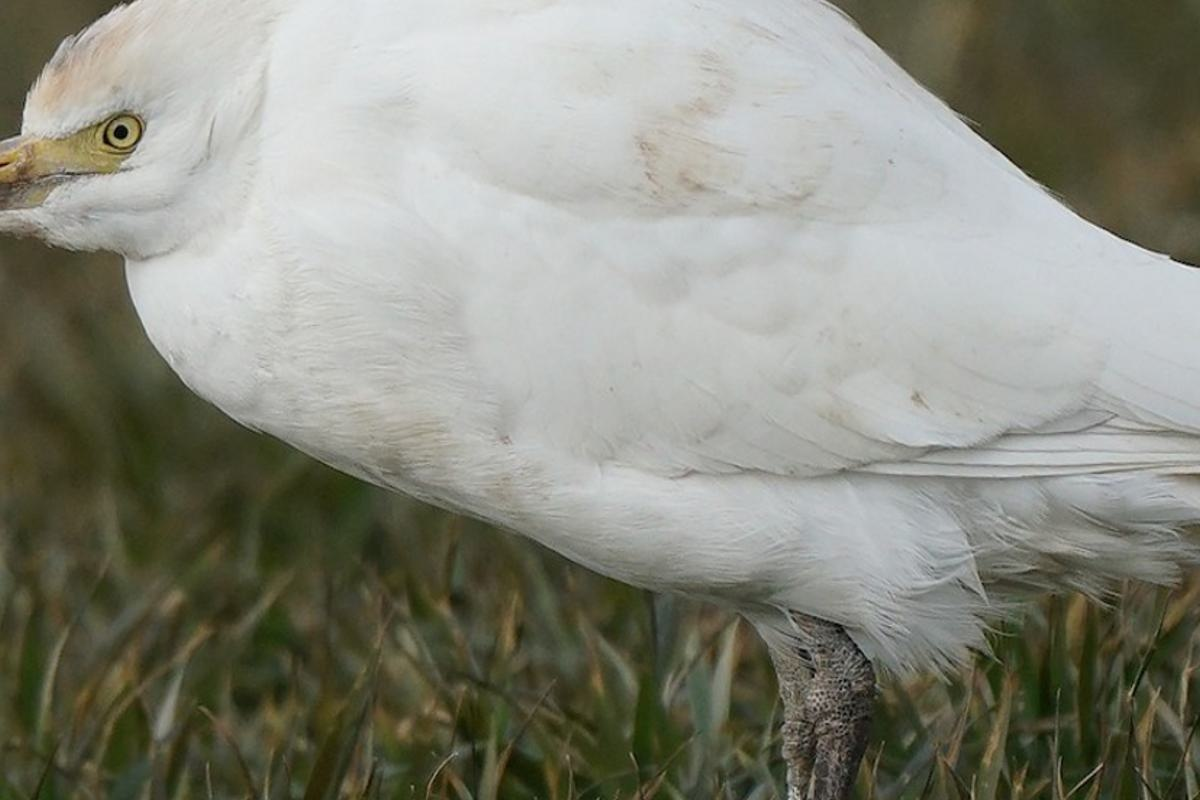egret: (1, 5, 1196, 737)
